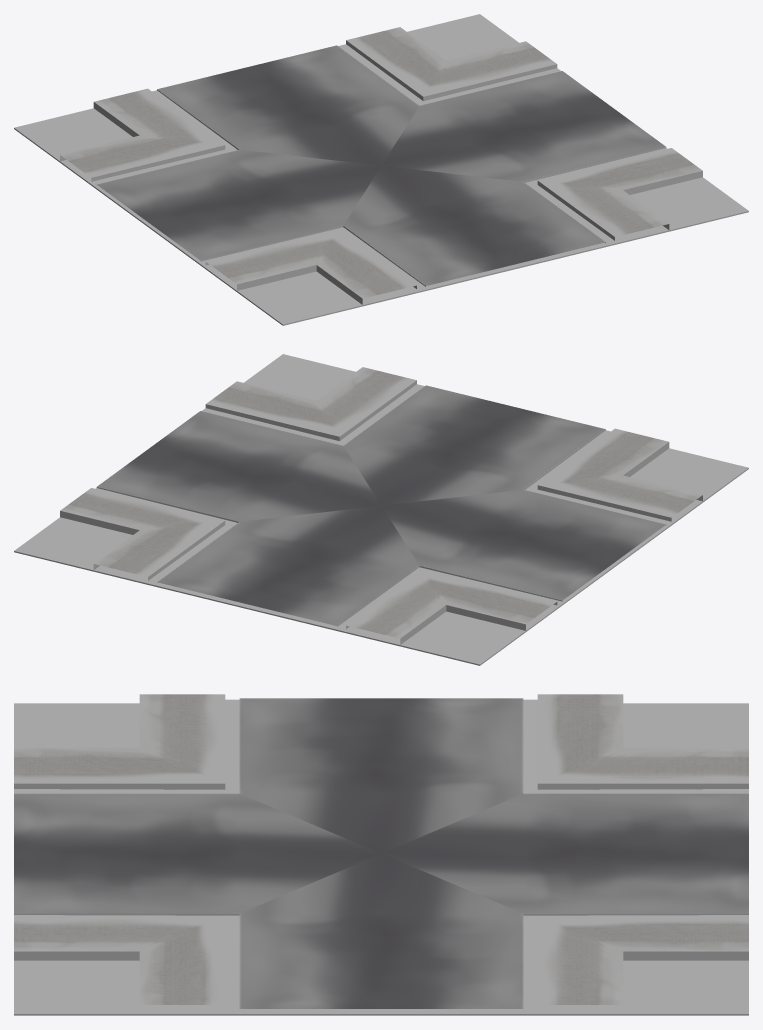
File: Flat_Intersection.fbx
3 renders of one model, top to bottom at view 1: azimuth 30°, elevation 25°; view 2: azimuth 150°, elevation 25°; view 3: azimuth 270°, elevation 25°, orthographic. The views are drawn at different scales.
Parts seen in each view (by area): view 1: Road_10X26, Road_10X60; view 2: Road_10X26, Road_10X60; view 3: Road_10X26, Road_10X60.
Part boxes in pixels (bbox=[...]): Road_10X26: bbox=[60, 27, 702, 304]; Road_10X60: bbox=[14, 14, 748, 325]; Road_10X26: bbox=[60, 367, 702, 644]; Road_10X60: bbox=[14, 354, 748, 665]; Road_10X26: bbox=[14, 694, 748, 1010]; Road_10X60: bbox=[14, 703, 748, 1015].
Bounding box in the file's own units: 1000 × 15.99 × 1000.
